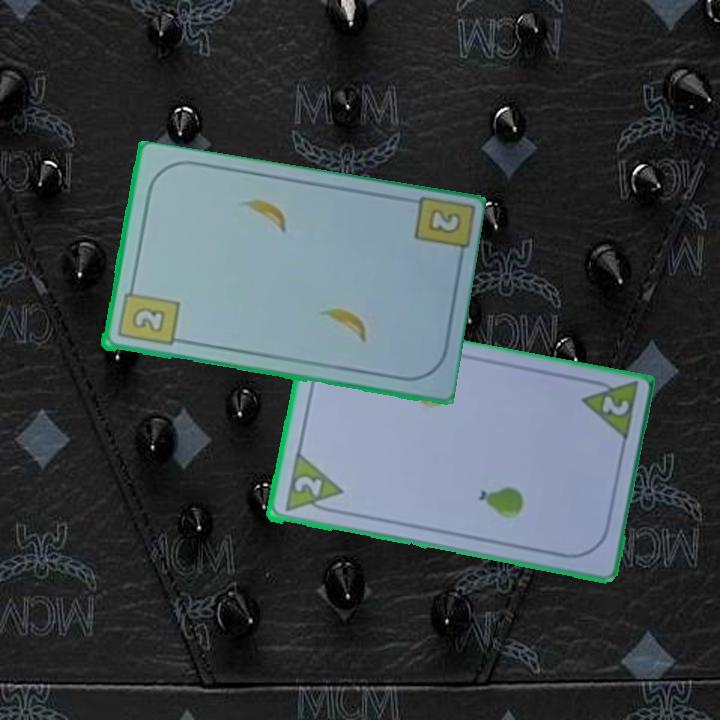2b: (114, 280, 181, 349), (427, 208, 461, 235)
2p: (576, 375, 641, 446), (280, 452, 344, 517)
